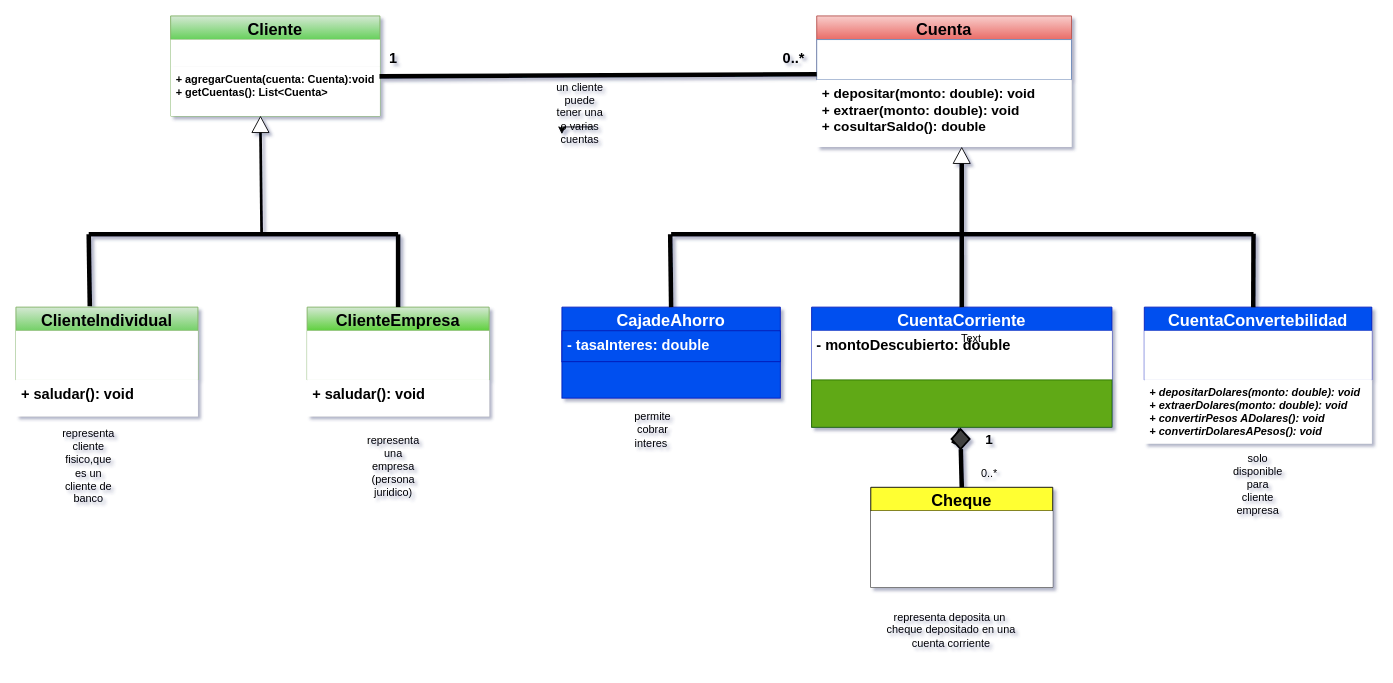
This 1393x683 diagram has some shape labels left out. Here are the shapes that lost their labels. From the top down, the centre of each, then its label:
At pixel 274 52: "- nroCliente: int".
At pixel 944 59: "- nroCuenta: int - saldo: double".
At pixel 106 354: "- nombre: String - dni: String".
At pixel 398 354: "- razonSocial: String - cuit: String".
At pixel 1257 354: "- saldoPesos: double - saldoDolares: double - tasaConversion: double".
At pixel 670 379: "+ void cobrarInteres(): void".
At pixel 961 403: "+ depositarCheque(cheque:Cheque: void + debitar(monto: double): void".
At pixel 961 549: "- monto: double - bancoEmisor: String - fechaPago: Date".
